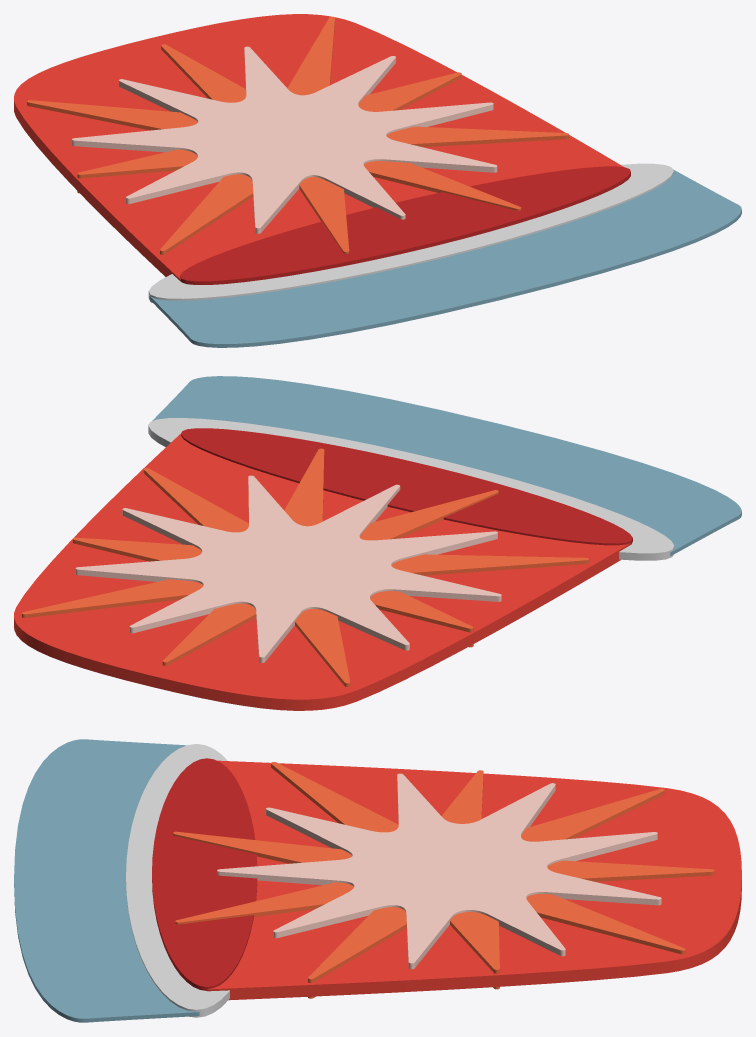
Rendered from emoji_u1f6a8.glb.
3 renders of one model, top to bottom at view 1: azimuth 30°, elevation 25°; view 2: azimuth 150°, elevation 25°; view 3: azimuth 270°, elevation 25°, orthographic. The views are drawn at different scales.
Visible parts, largest first — view 1: emoji_u1f6a8; view 2: emoji_u1f6a8; view 3: emoji_u1f6a8.
Boxes of the visible parts, x1=… form: emoji_u1f6a8: x1=14, y1=14, x2=741, y2=347; emoji_u1f6a8: x1=14, y1=376, x2=741, y2=710; emoji_u1f6a8: x1=14, y1=739, x2=741, y2=1022.
Bounding box in the file's own units: 0.0307 × 0.0012 × 0.0338.
